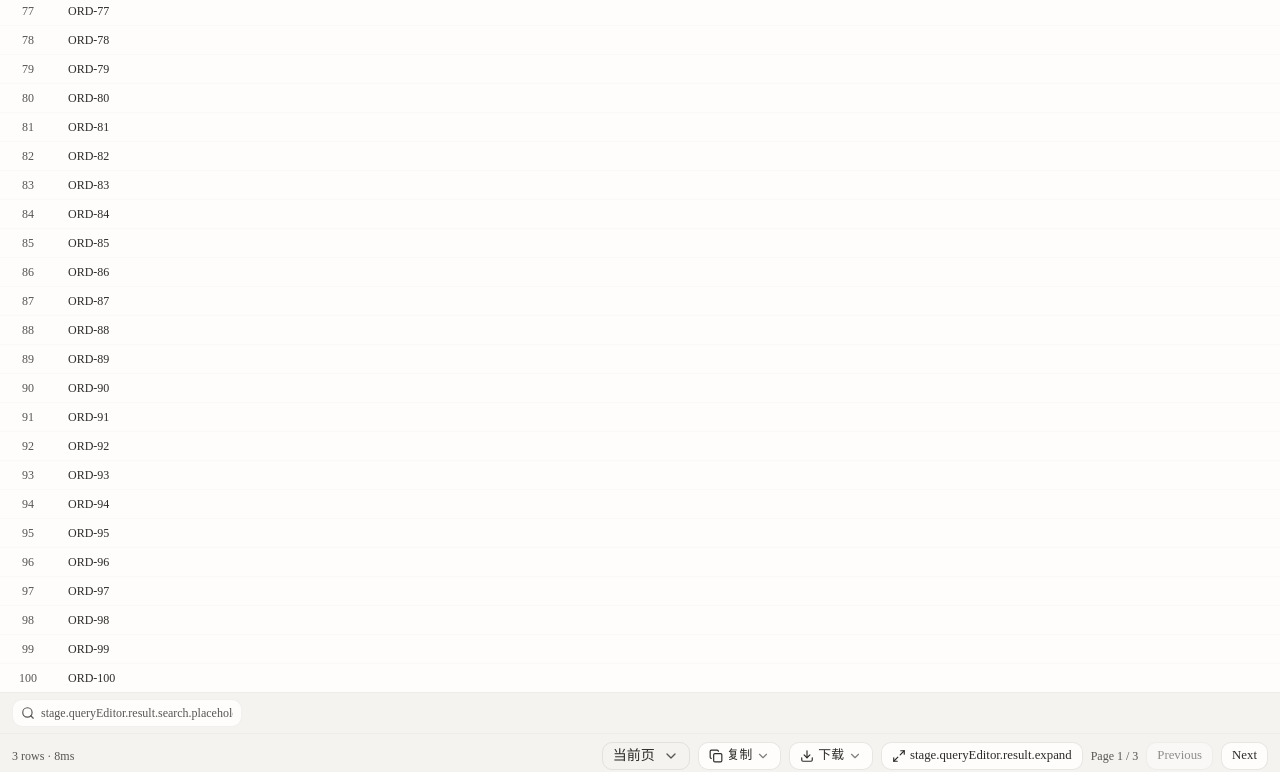
Sql result displays › paginates result sets in pages of 100 rows
(page scrolled)
Expected: the cell "100" is shown, x1=0 y1=663 x2=56 y2=692
Expected: the cell "101" is not shown
Click the button "Next": (1245, 756) x1=1221 y1=742 x2=1268 y2=770
(page scrolled)
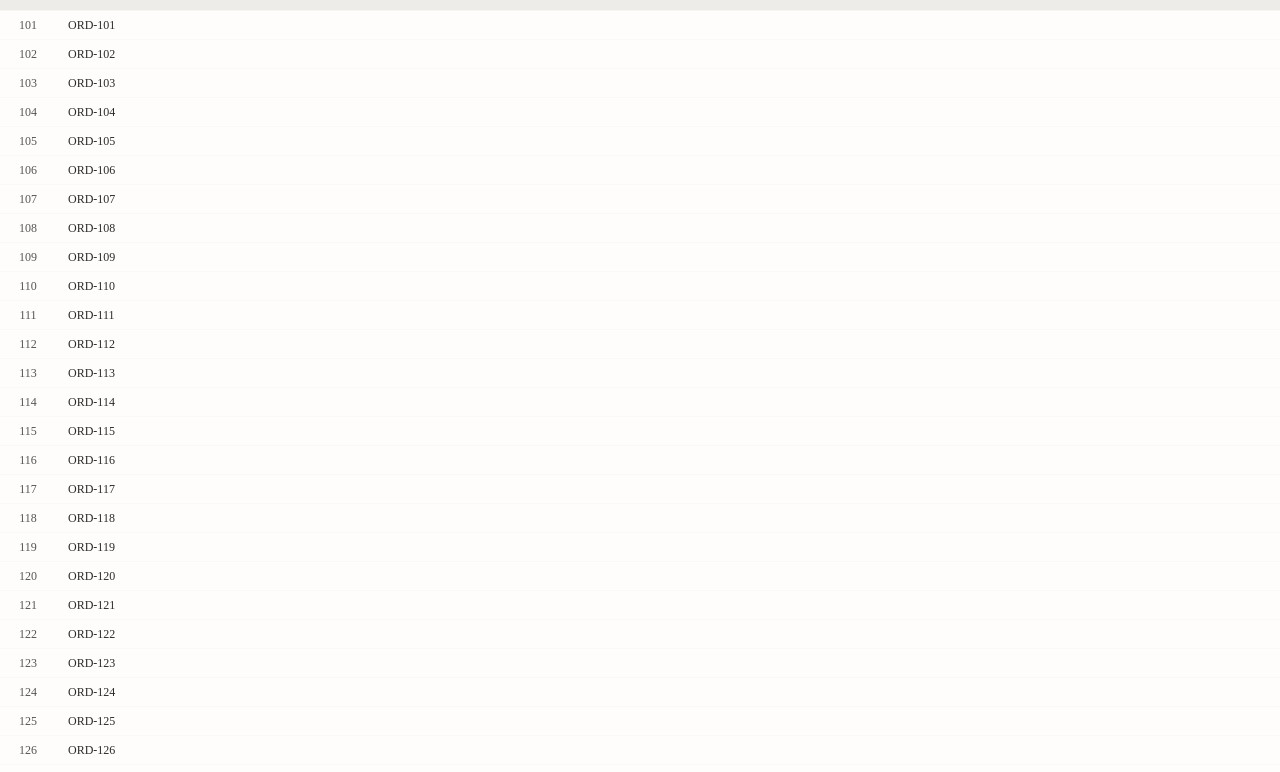
Expected: the cell "101" is shown, x1=0 y1=10 x2=56 y2=39
Expected: the cell "100" is gone
